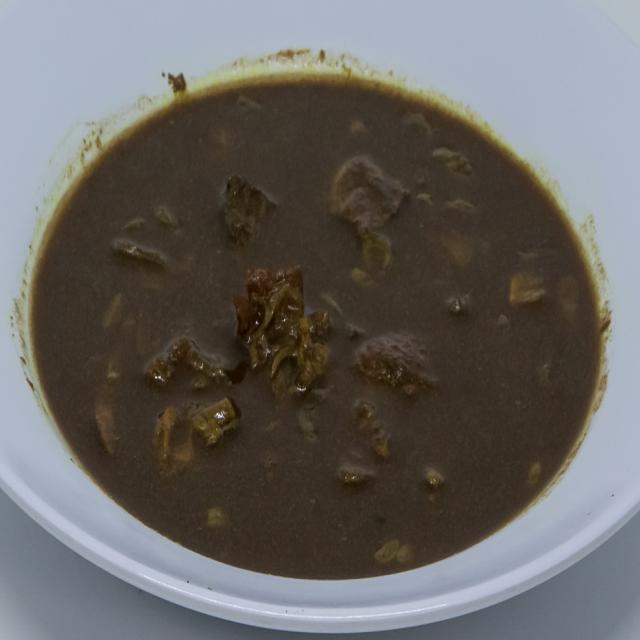Rawon-Surabaya: (18, 53, 608, 600)
